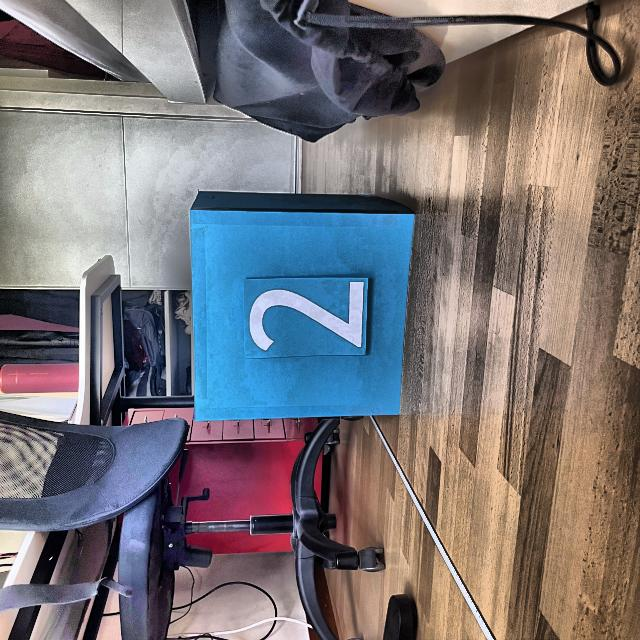blue box: (187, 186, 408, 421)
two: (246, 277, 368, 356)
